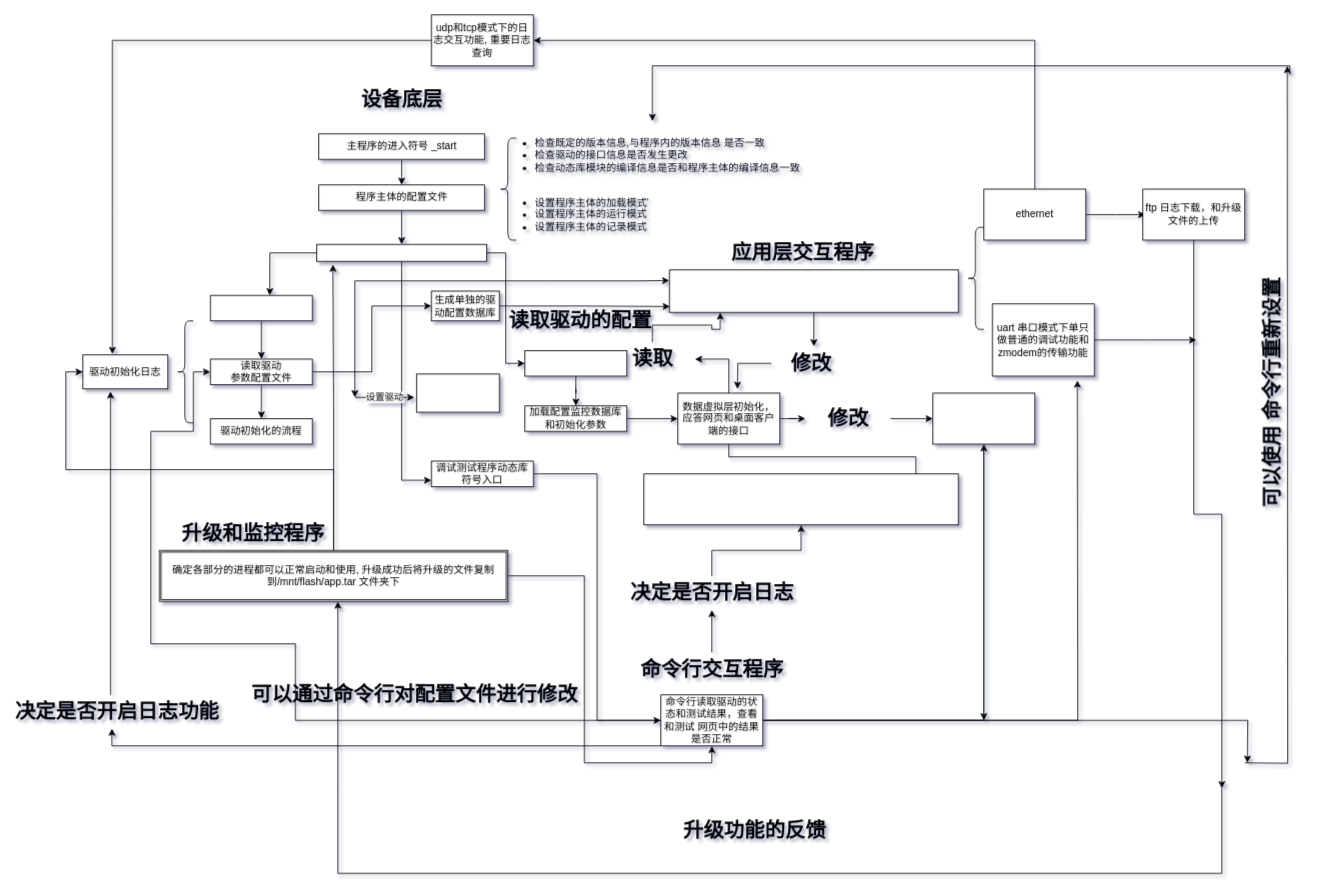
Image size: 1317x893. Some labels were removed from this diagram. The box of each missing label's shape, as (x1, y1, x2, y2) in pixels:
ISP 或者 IR 网管监控软件日志 网页参数修改日志记录: (643, 473, 958, 525)
底层驱动程序接口符号入口: (210, 295, 312, 321)
数据库回滚和 备份功能: (932, 392, 1035, 444)
监控程序动态库符号加载入口: (524, 350, 627, 376)
网页和桌面客户端: (669, 269, 958, 312)
调用驱动接口对应用层设置生效: (416, 373, 499, 412)
驱动底层接口: (316, 244, 487, 261)
